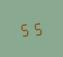five: (19, 20, 30, 37), (31, 20, 42, 36)
